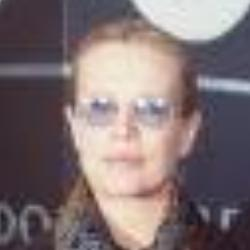face: (42, 14, 216, 222)
